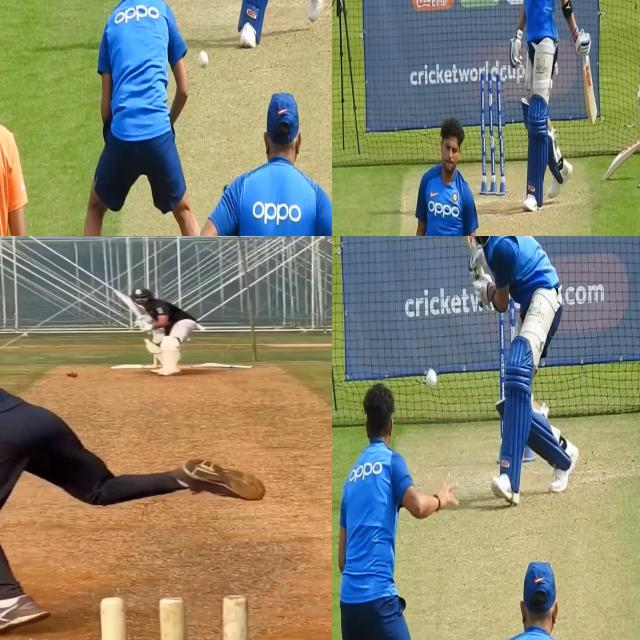Cricket ball: (93, 593, 255, 640), (425, 364, 439, 392), (198, 48, 210, 72), (67, 371, 78, 378)
Stumps: (478, 69, 505, 197)
